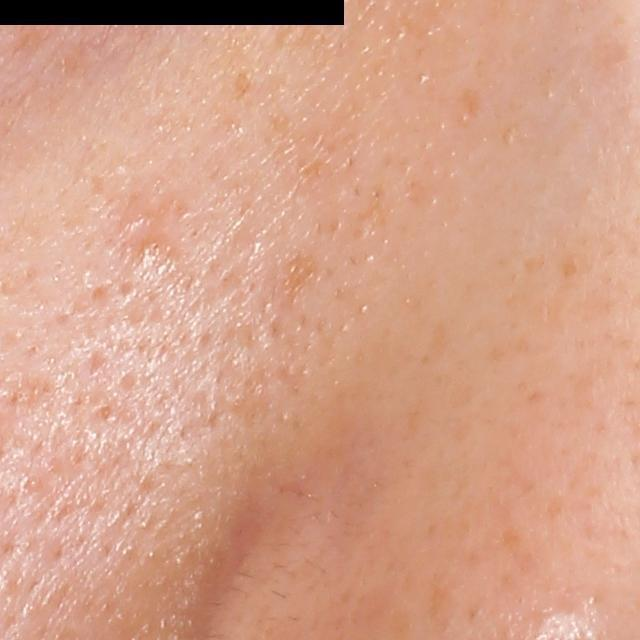melasma: (263, 110, 360, 185), (276, 248, 327, 309), (227, 64, 252, 105)
